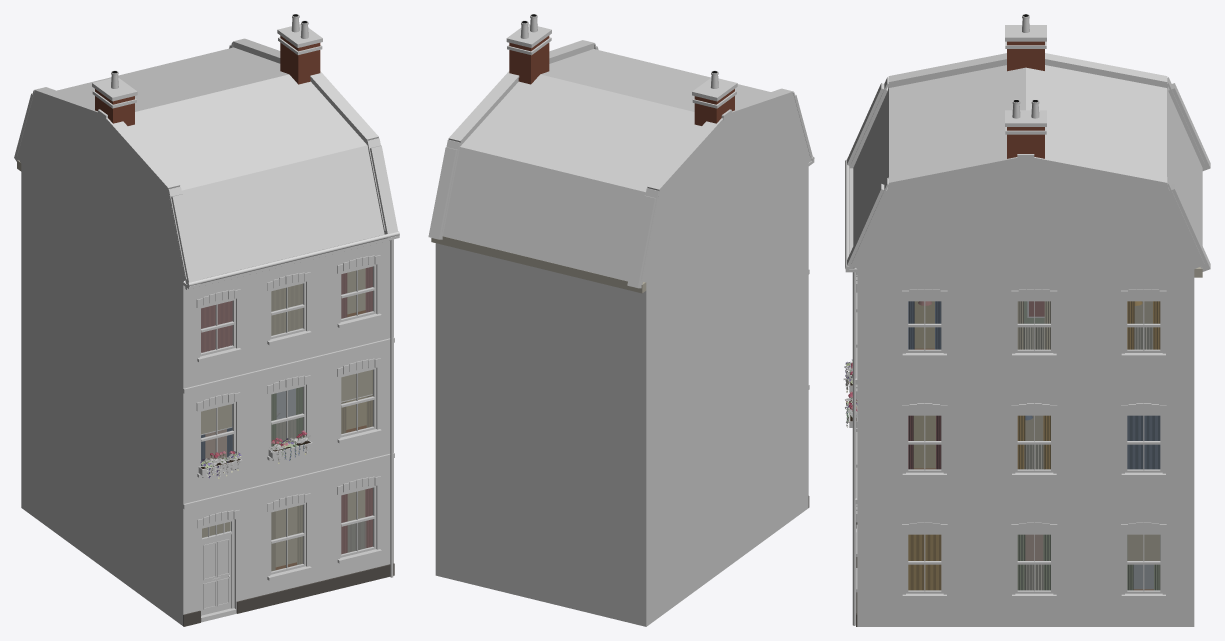
File: StraightEnd_Outer3.glb
3 views of the same model, side by side, from view 1: azimuth 30°, elevation 25°; view 2: azimuth 150°, elevation 25°; view 3: azimuth 270°, elevation 25° (orthographic). The views are drawn at different scales.
Parts seen in each view (by area): view 1: StraightEnd_Outer3; view 2: StraightEnd_Outer3; view 3: StraightEnd_Outer3.
Part boxes in pixels (<box>): StraightEnd_Outer3: <box>14,14,399,626</box>; StraightEnd_Outer3: <box>428,14,814,626</box>; StraightEnd_Outer3: <box>843,14,1210,626</box>.
Size of the model in its own units: 6.1 by 13.61 by 8.72.
